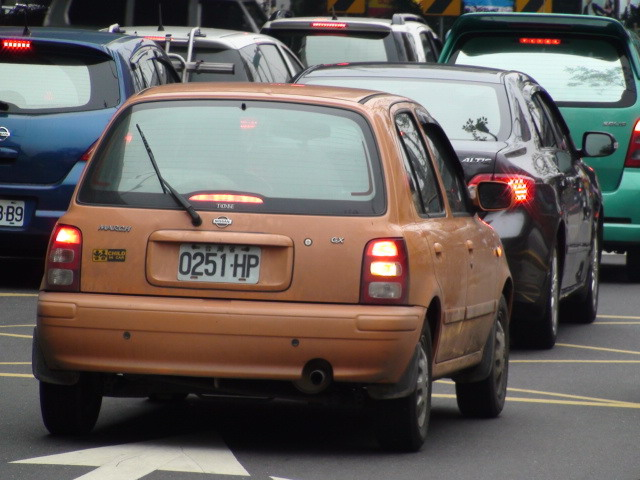plate: (175, 238, 264, 289)
